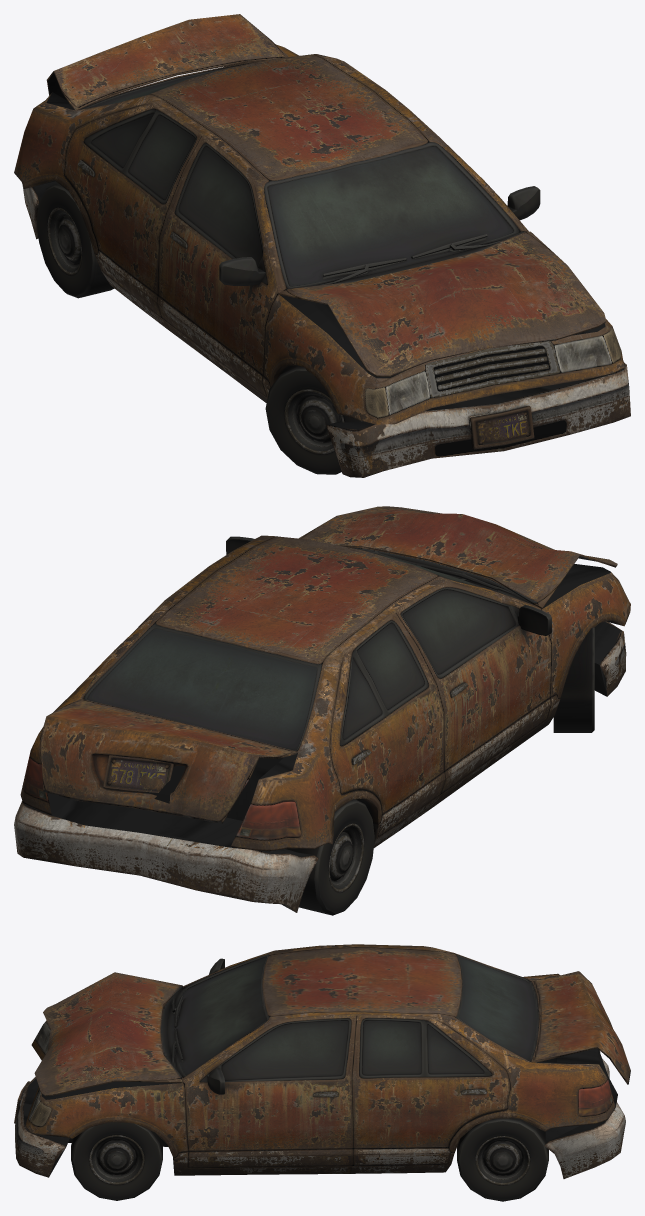
Rendered from Car 3.FBX.
3 views of the same model, one above another, from view 1: azimuth 30°, elevation 25°; view 2: azimuth 150°, elevation 25°; view 3: azimuth 270°, elevation 25° (orthographic). The views are drawn at different scales.
Visible parts, largest first — view 1: 3; view 2: 3; view 3: 3.
Part boxes in pixels (x1=…): 3: x1=14, y1=14, x2=630, y2=477; 3: x1=14, y1=506, x2=630, y2=915; 3: x1=14, y1=944, x2=630, y2=1201.
Bounding box in the file's own units: 576 × 1227 × 380.
